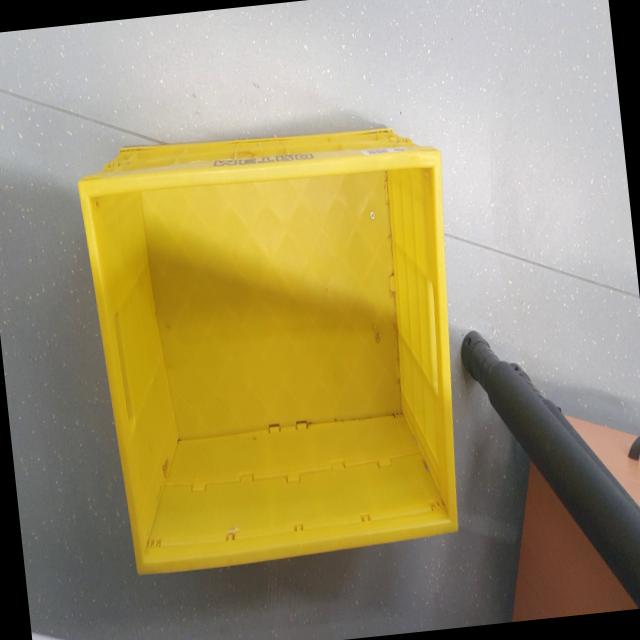box: (67, 68, 487, 590)
